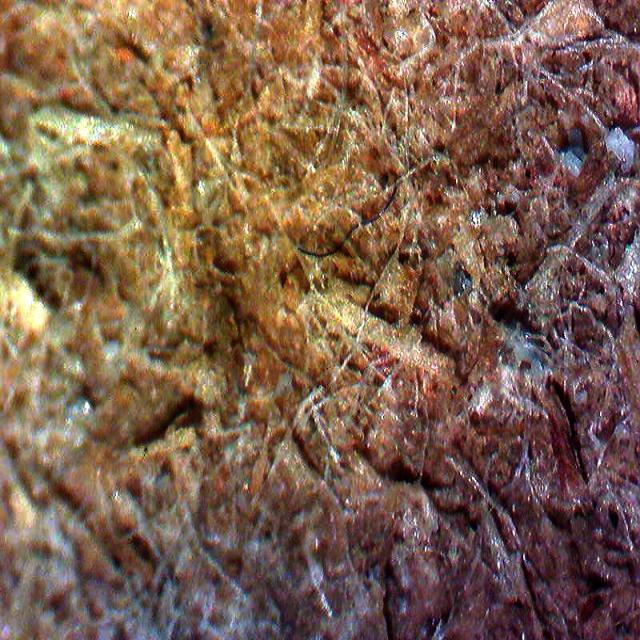microplastic: (295, 184, 400, 261)
